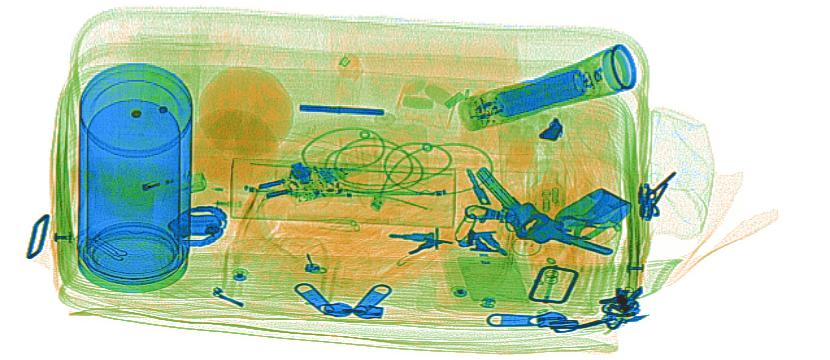battery: (488, 69, 583, 120)
lighter: (110, 171, 206, 203)
